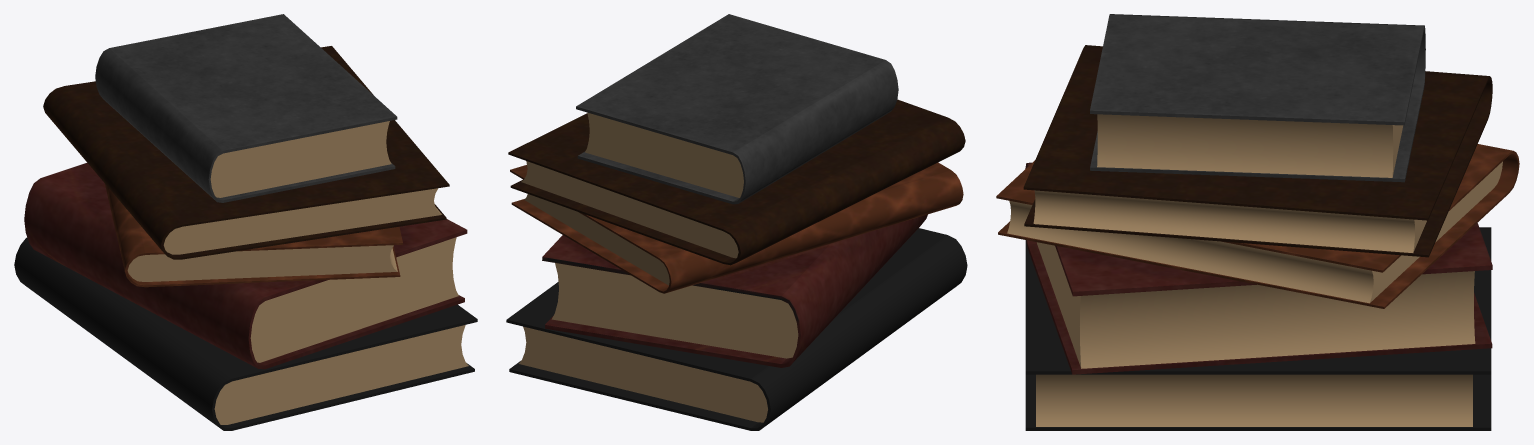
File: book.fbx
The picture shows the model from 3 angles, left to right: view 1: azimuth 30°, elevation 25°; view 2: azimuth 150°, elevation 25°; view 3: azimuth 270°, elevation 25°; orthographic projection. The views are drawn at different scales.
Visible parts, largest first — view 1: cover004, cover001, cover, cover003, cover002; view 2: cover004, cover, cover003, cover001, cover002; view 3: cover004, cover003, cover001, cover, cover002.
Boxes of the visible parts, box(x1,y1,x2,y2) form: cover004: box(95, 14, 397, 202); cover001: box(24, 163, 467, 369); cover: box(14, 237, 477, 430); cover003: box(43, 46, 449, 259); cover002: box(105, 184, 403, 287); cover004: box(576, 14, 898, 204); cover: box(506, 228, 967, 430); cover003: box(508, 99, 965, 265); cover001: box(542, 214, 927, 367); cover002: box(510, 162, 963, 293); cover004: box(1090, 14, 1425, 182); cover003: box(1023, 45, 1492, 257); cover001: box(1025, 162, 1492, 374); cover: box(1025, 227, 1491, 430); cover002: box(996, 144, 1519, 308).
Size of the model in its own units: 1.82 by 1.23 by 2.
